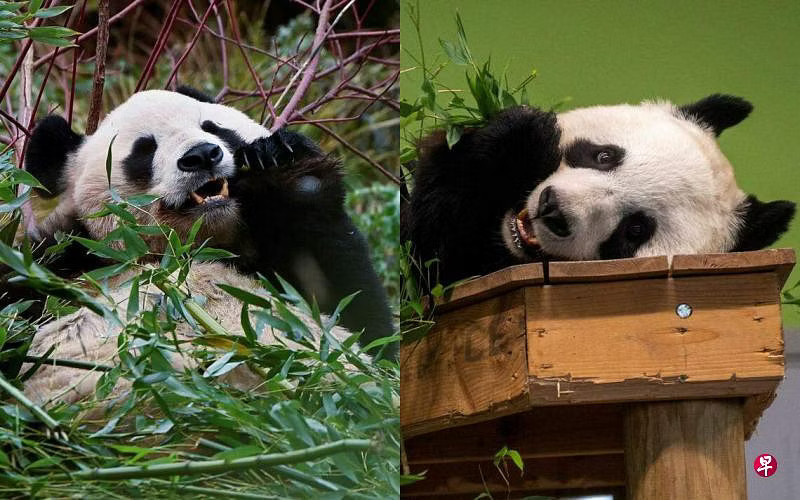Giant panda: (492, 91, 795, 260), (29, 80, 271, 258)
